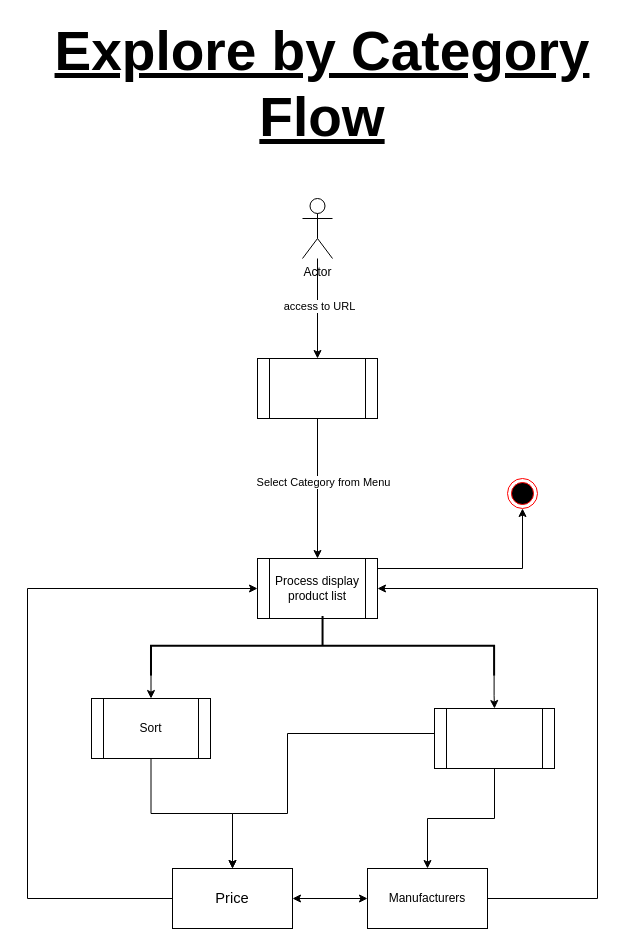
The diagram is 644 pixels wide and 946 high, and some of its shapes have lost their labels. Here are the shapes that lost their labels. From the top down, the centre of each, then its label:
(317,388): browser display web page
(494,738): Filter
